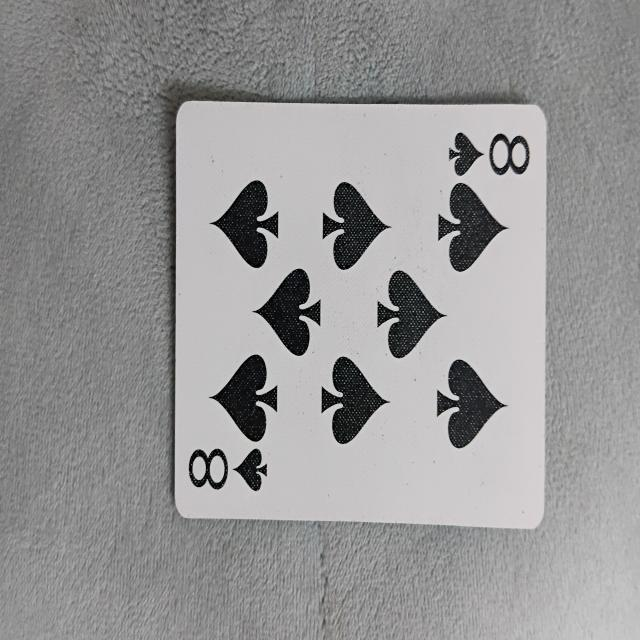8S: (170, 93, 548, 533)
